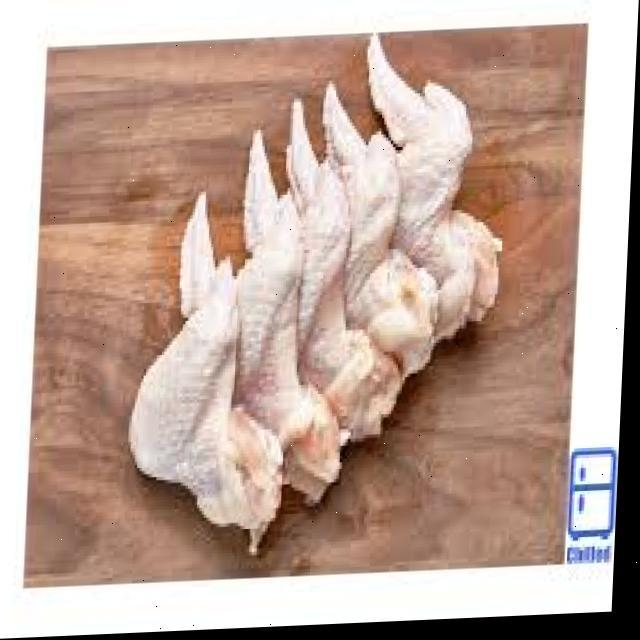wing: (126, 195, 290, 540), (354, 25, 507, 342), (218, 128, 342, 498), (272, 98, 399, 429), (305, 70, 439, 372)
